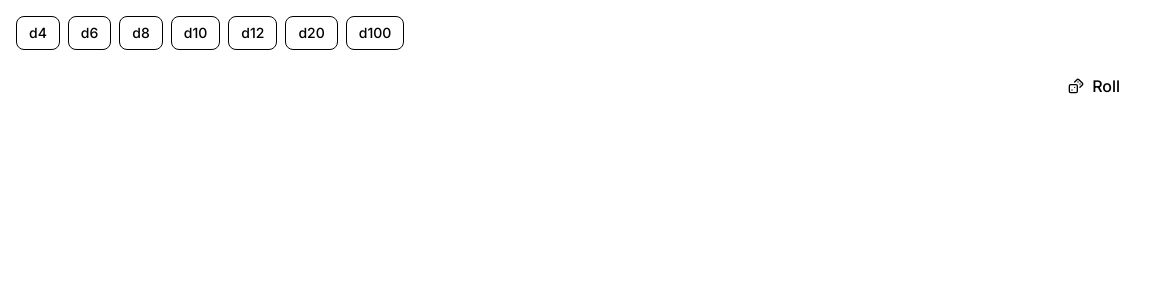
it: DiceRollerPanel › copies the formatted markdown to the clipboard
Click the button "d20".
click(312, 33)  # box [285,16,338,50]
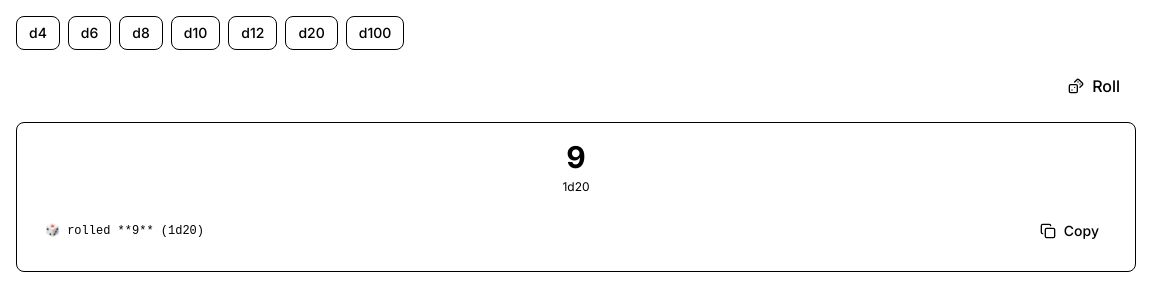
Click the button with aria-label "copy roll".
click(1069, 231)  # box [1032,215,1107,247]
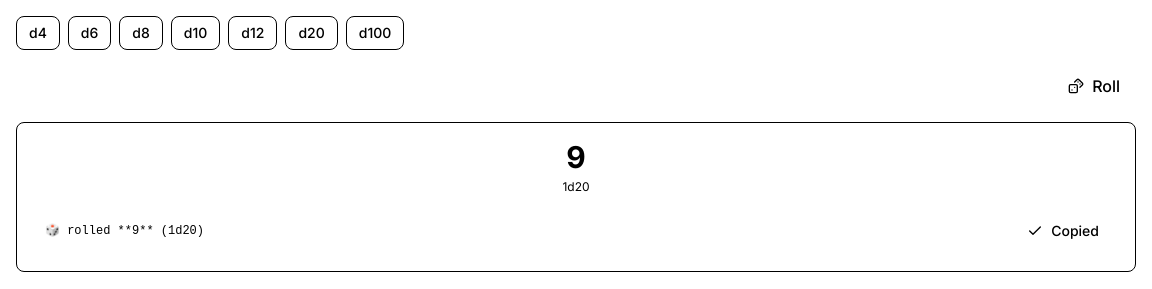
Now the text "Copied" is shown, box [1051,221,1099,241]
